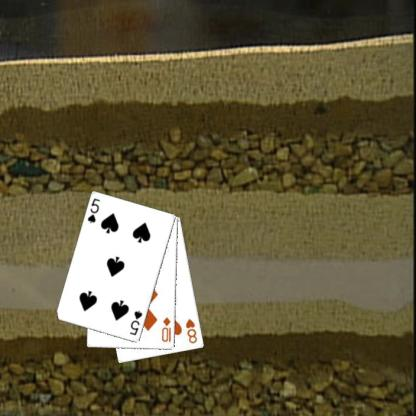10D: (160, 315, 172, 343)
5S: (127, 308, 144, 337), (85, 196, 101, 225)
8H: (183, 316, 199, 345)
